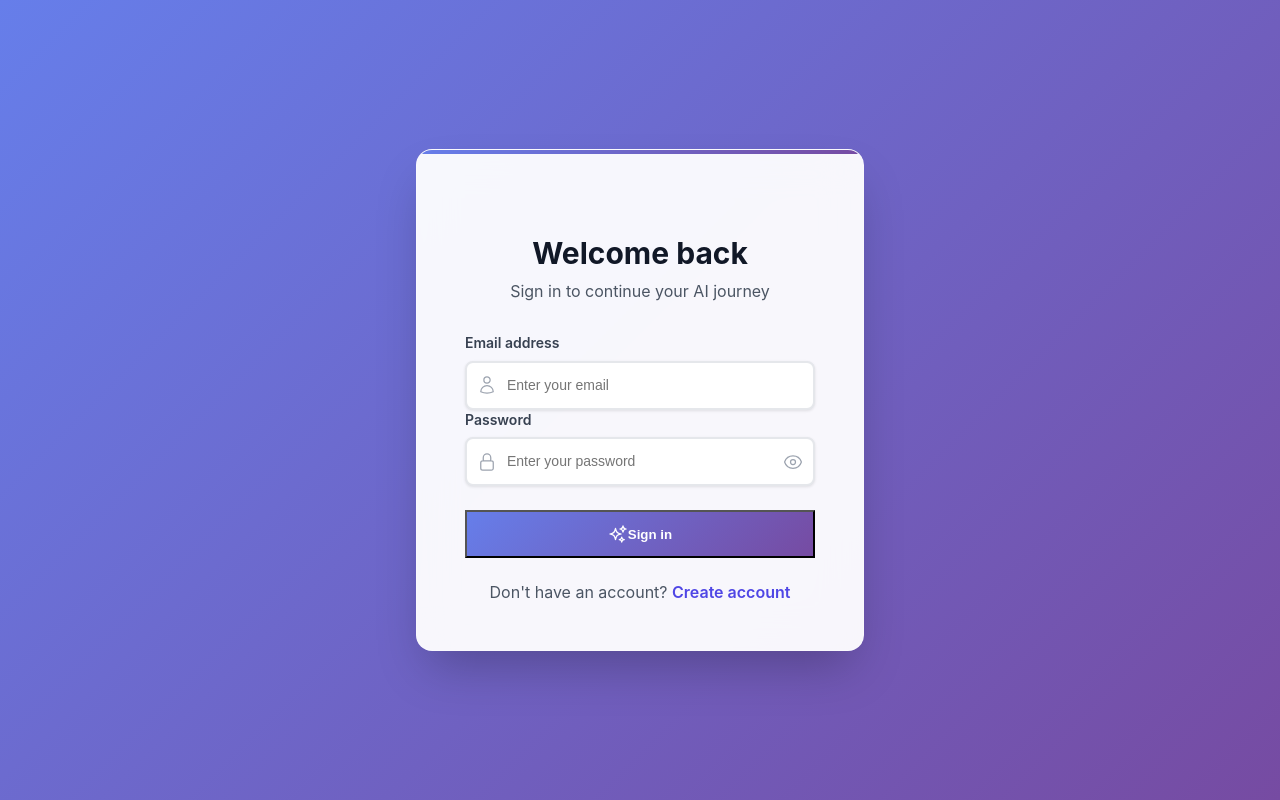
Test: LoginForm › Form Submission › should display error message on login failure
The width and height of the screenshot is (1280, 800).
# Fill and submit form
Type "test@example.com" into the field labelled "Email address" at (640, 385), box 465,360 -> 815,410
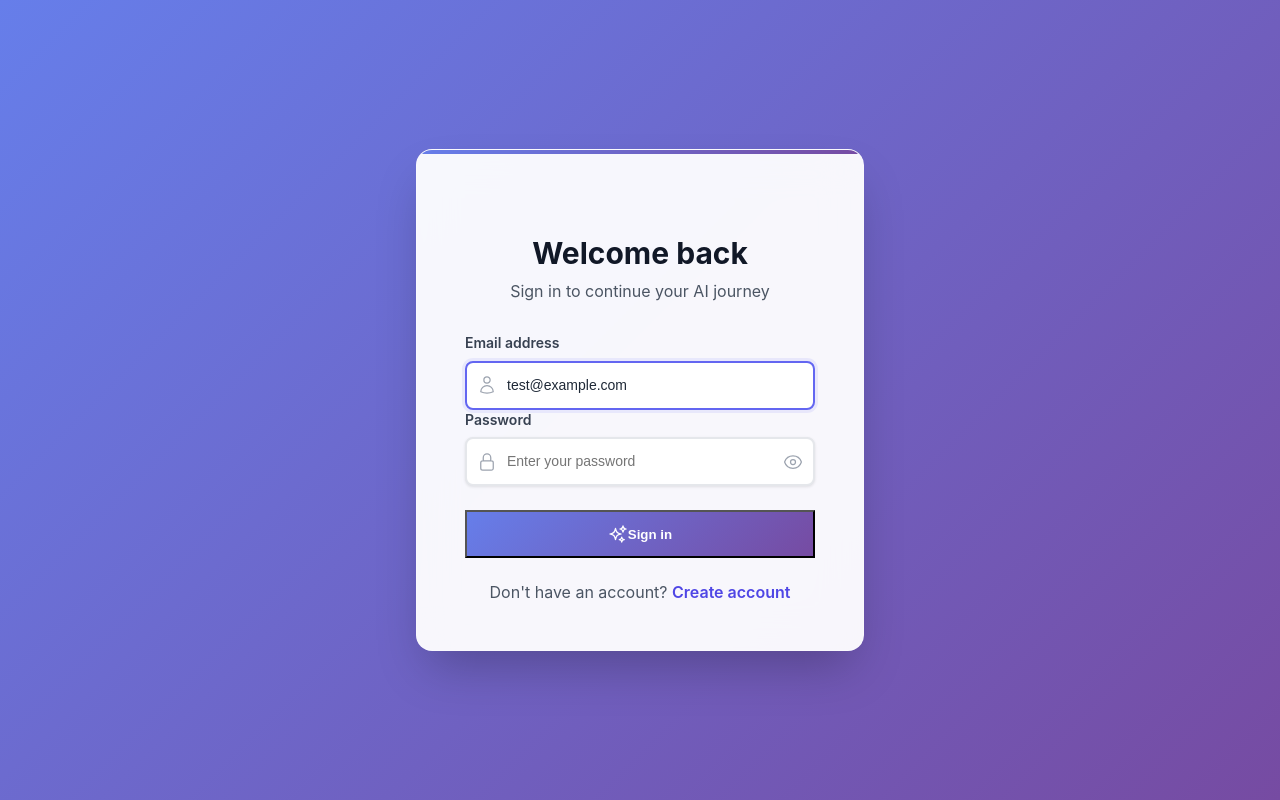
Type "wrongpassword" into the password field labelled "Password" at (640, 462), box 465,437 -> 815,486
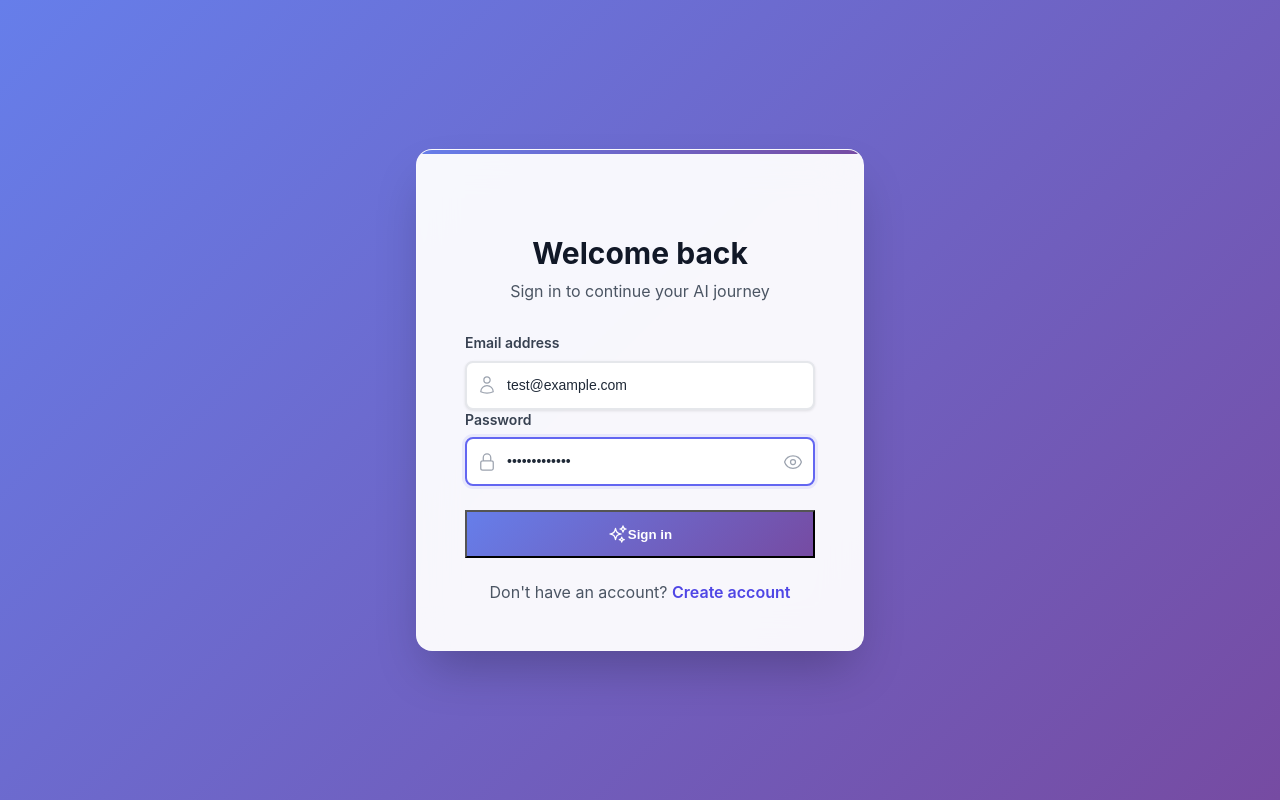
Click the button "Sign in" at (640, 534), box 465,510 -> 815,558
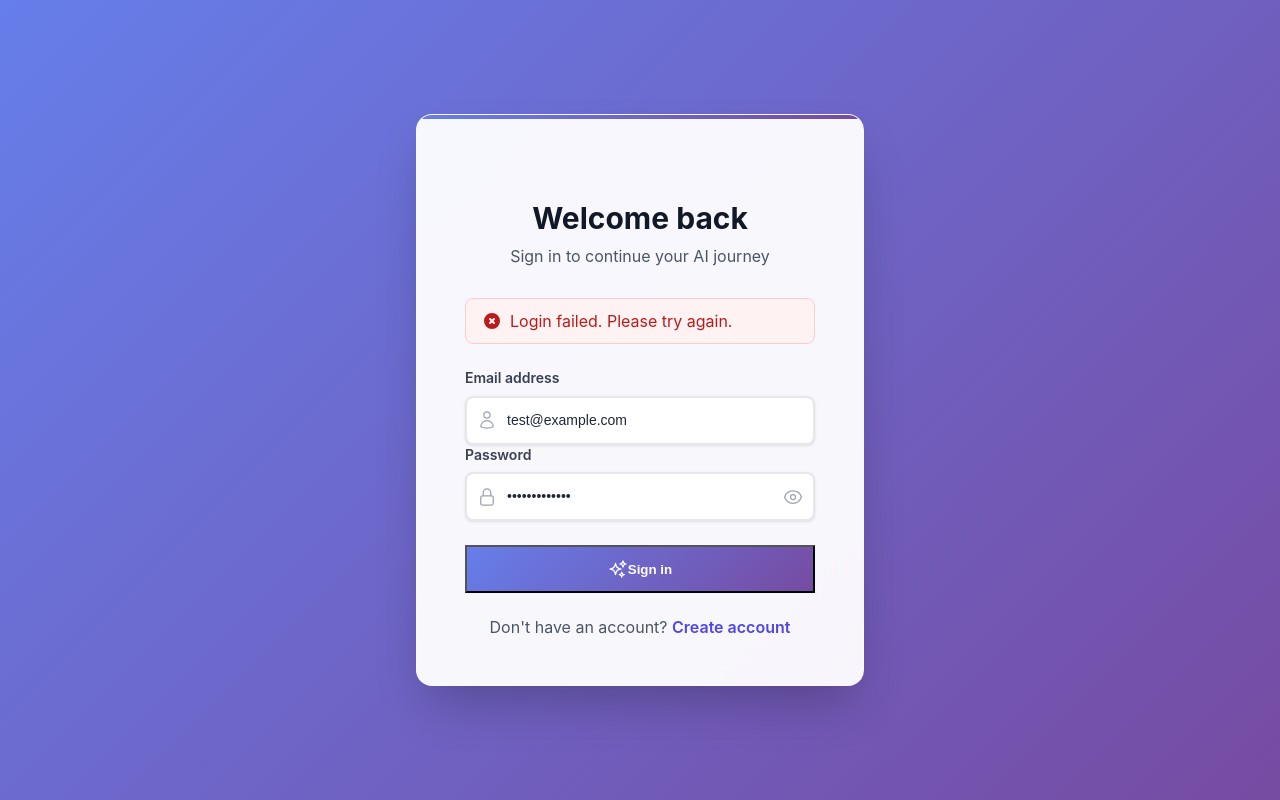
Expected: the button "Sign in" is enabled, 465,545 -> 815,593
Expected: the text "Login failed. Please try again." is shown, 510,311 -> 732,331
